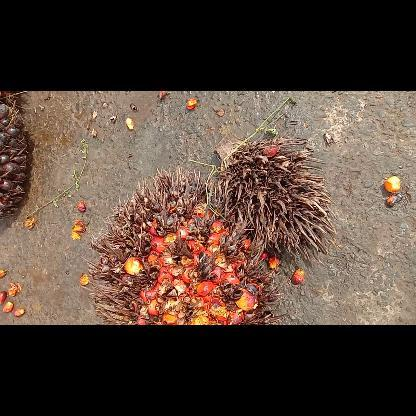Janjang kosong: (214, 132, 336, 262)
Terlalu masak: (81, 166, 283, 324)
